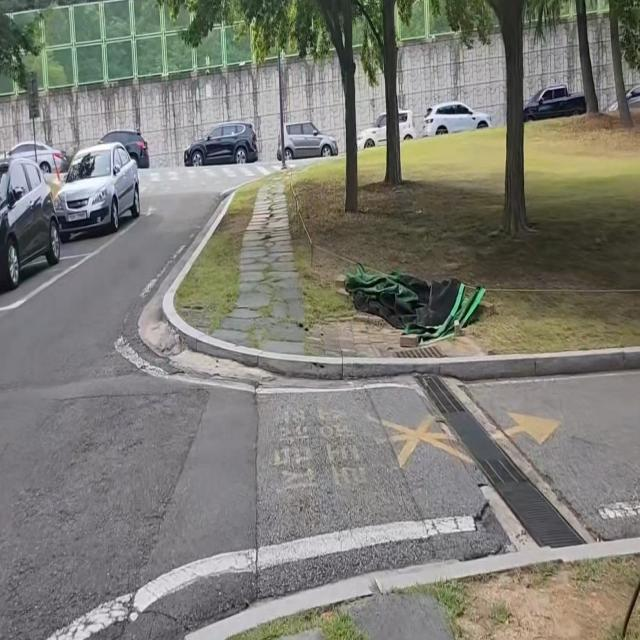obstacle: (0, 132, 150, 304)
road: (0, 167, 640, 640)
